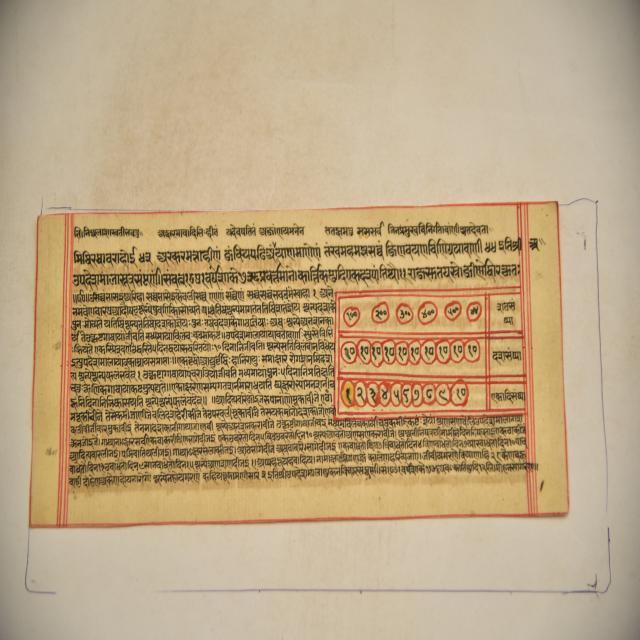text_paragraph: (22, 198, 570, 528)
